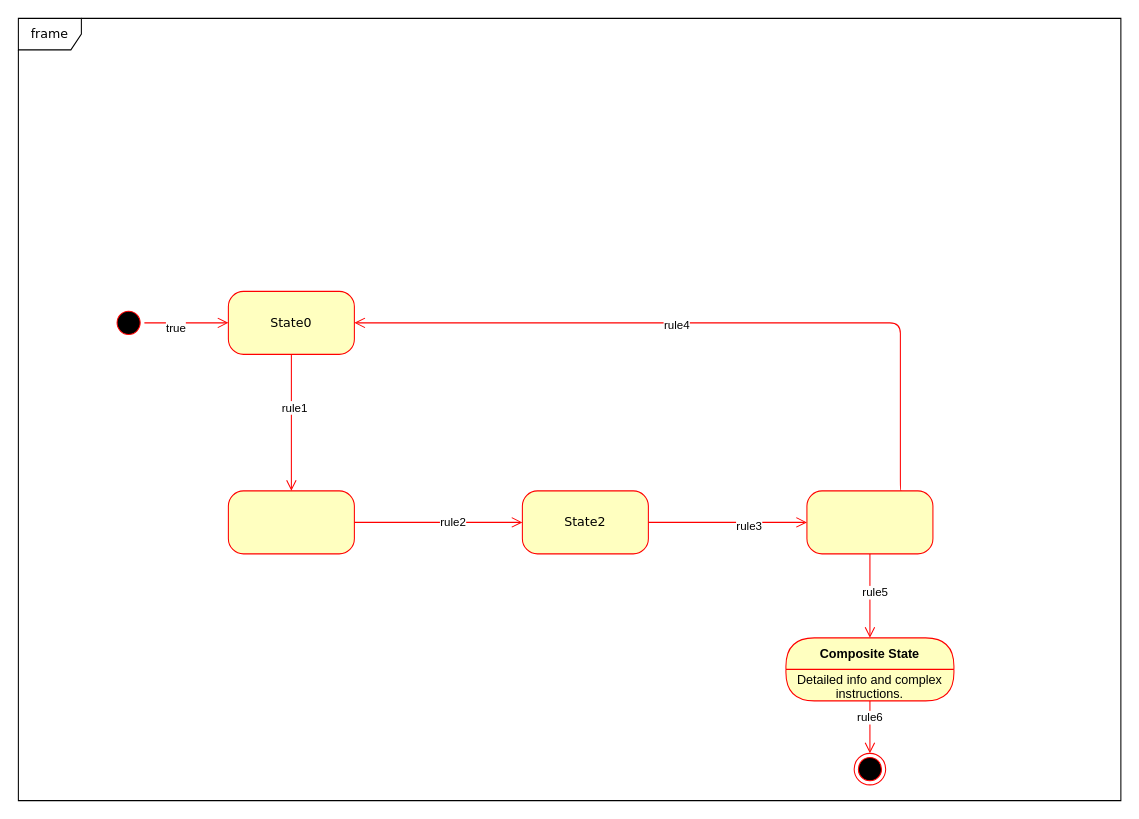
This 1139x819 diagram has some shape labels left out. The shapes that lost their labels are listed below. From the top down, each one's centre as x and y in pixels, then its label:
(x=290, y=522): State1
(x=869, y=522): State3
